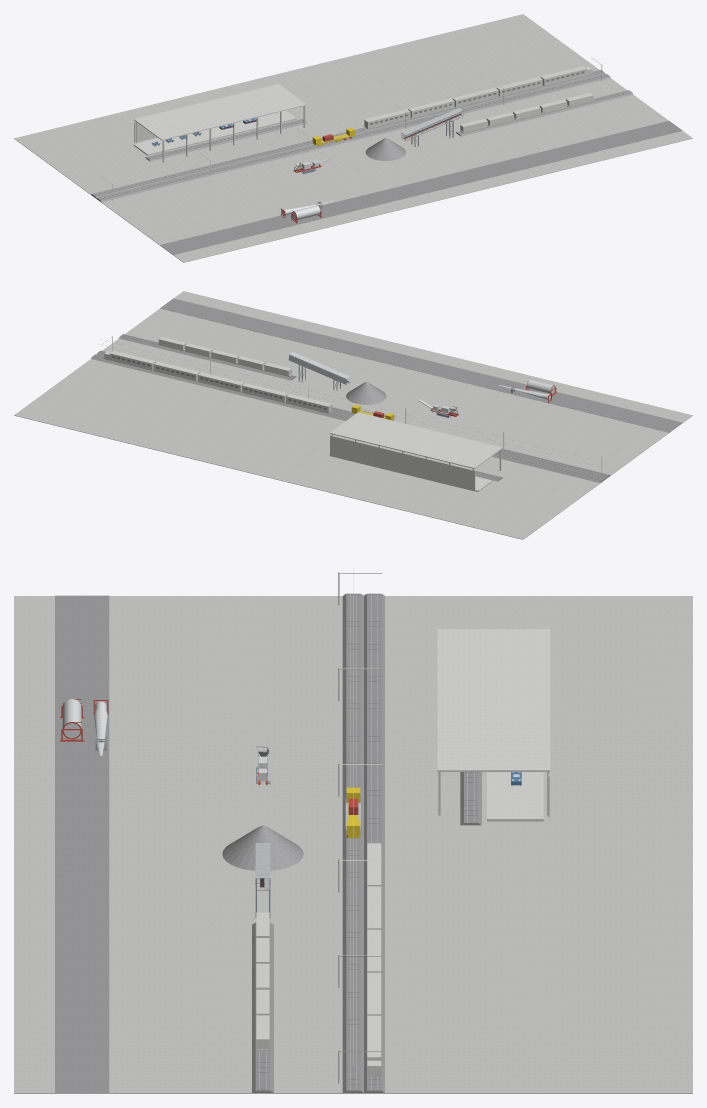
Rendered from plant-rail.glb.
3 renders of one model, top to bottom at view 1: azimuth 30°, elevation 25°; view 2: azimuth 150°, elevation 25°; view 3: azimuth 270°, elevation 25°, orthographic. The views are drawn at different scales.
Visible parts, largest first — view 1: ENV_Ground, ENV_Road, ENV_DepotShed, ENV_UpBed, ENV_Train, ENV_DownBed, ENV_DepotFloor, ENV_UpRails, ENV_SidingBed, ENV_LoopBed, ENV_BallastPile, ENV_DownRails (+1 smaller); view 2: ENV_Ground, ENV_DepotShed, ENV_Road, ENV_Train, ENV_DownBed, ENV_UpBed, ENV_LoopBed, ENV_BallastPile, Roof&SideSheeting; view 3: ENV_Ground, ENV_Road, ENV_DepotShed, ENV_UpBed, ENV_DownBed, ENV_Train, ENV_DepotFloor, ENV_UpSleepers, ENV_LoopBed, ENV_BallastPile, ENV_DownSleepers, ENV_OHE (+2 smaller).
Boxes of the visible parts, <box> form: ENV_Ground: <box>14,14,692,262</box>; ENV_Road: <box>160,121,682,254</box>; ENV_DepotShed: <box>134,84,306,162</box>; ENV_UpBed: <box>96,73,610,202</box>; ENV_Train: <box>364,66,592,128</box>; ENV_DownBed: <box>91,70,605,198</box>; ENV_DepotFloor: <box>133,110,296,155</box>; ENV_UpRails: <box>98,74,608,199</box>; ENV_SidingBed: <box>145,119,306,161</box>; ENV_LoopBed: <box>456,90,633,136</box>; ENV_BallastPile: <box>365,138,405,160</box>; ENV_DownRails: <box>93,70,603,195</box>; ENV_Ground: <box>14,291,692,539</box>; ENV_DepotShed: <box>329,412,502,491</box>; ENV_Road: <box>160,298,682,432</box>; ENV_Train: <box>104,351,332,413</box>; ENV_DownBed: <box>91,354,605,482</box>; ENV_UpBed: <box>96,350,610,478</box>; ENV_LoopBed: <box>119,334,296,380</box>; ENV_BallastPile: <box>346,382,386,404</box>; Roof&SideSheeting: <box>288,351,349,384</box>; ENV_Ground: <box>14,596,692,1093</box>; ENV_Road: <box>55,595,109,1092</box>; ENV_DepotShed: <box>437,629,550,817</box>; ENV_UpBed: <box>342,593,363,1092</box>; ENV_DownBed: <box>364,593,384,1092</box>; ENV_Train: <box>367,843,381,1076</box>; ENV_DepotFloor: <box>487,772,543,821</box>; ENV_UpSleepers: <box>348,594,358,1088</box>; ENV_LoopBed: <box>252,922,273,1092</box>; ENV_BallastPile: <box>222,825,303,870</box>; ENV_DownSleepers: <box>368,594,379,1088</box>; ENV_OHE: <box>338,568,382,1083</box>.
Size of the model in its own units: 260 by 12.35 by 150.
53 materials, 51 textured.
